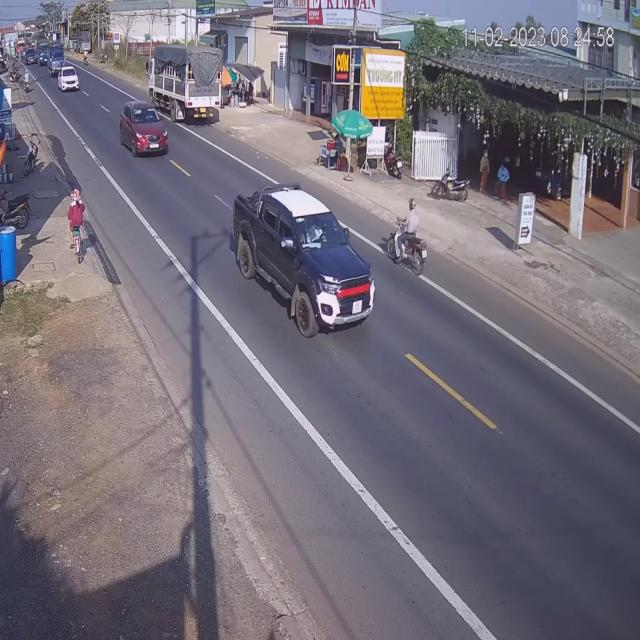car: (230, 182, 373, 337), (121, 103, 170, 159), (59, 65, 80, 94)
motorbike: (387, 196, 430, 272)
truck: (154, 42, 225, 125)
